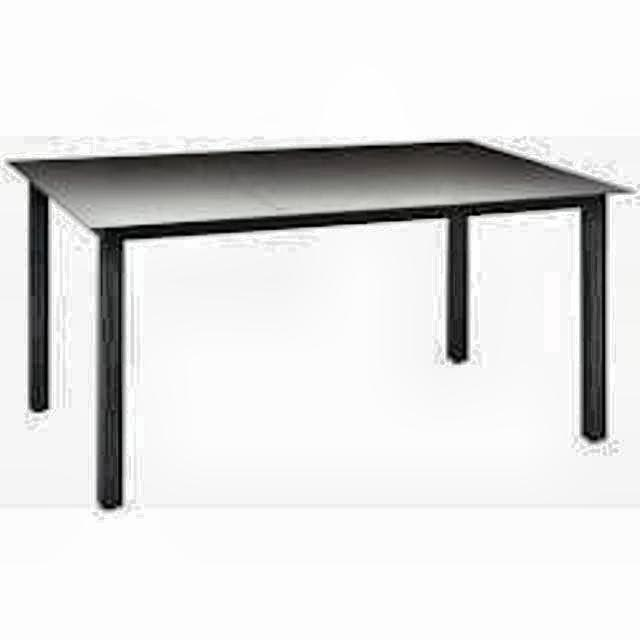mesa: (7, 113, 637, 529)
